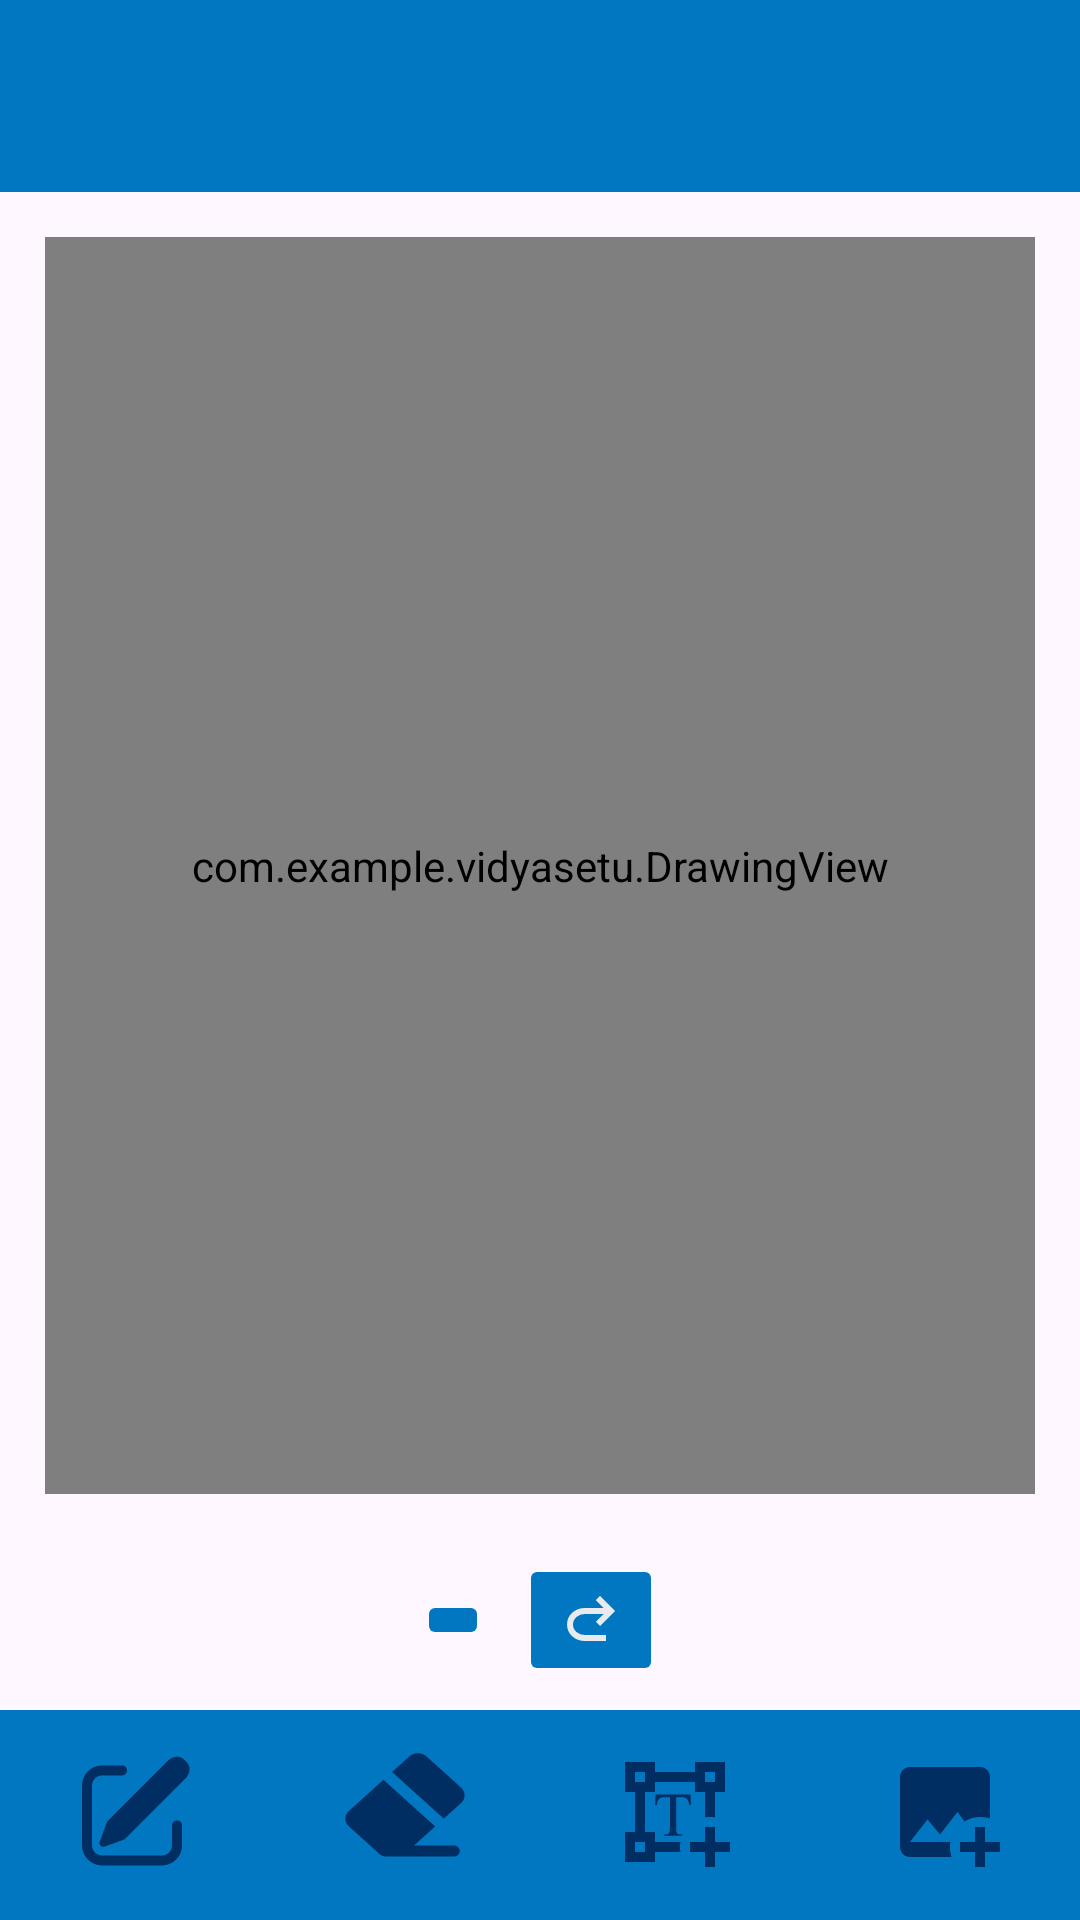

Icon click points for this 1080×1920 phone screenshot, format (x=x, y=y):
eraser: (x=405, y=1805)
pencil: (x=136, y=1811)
redo: (x=591, y=1620)
text: (x=677, y=1814)
